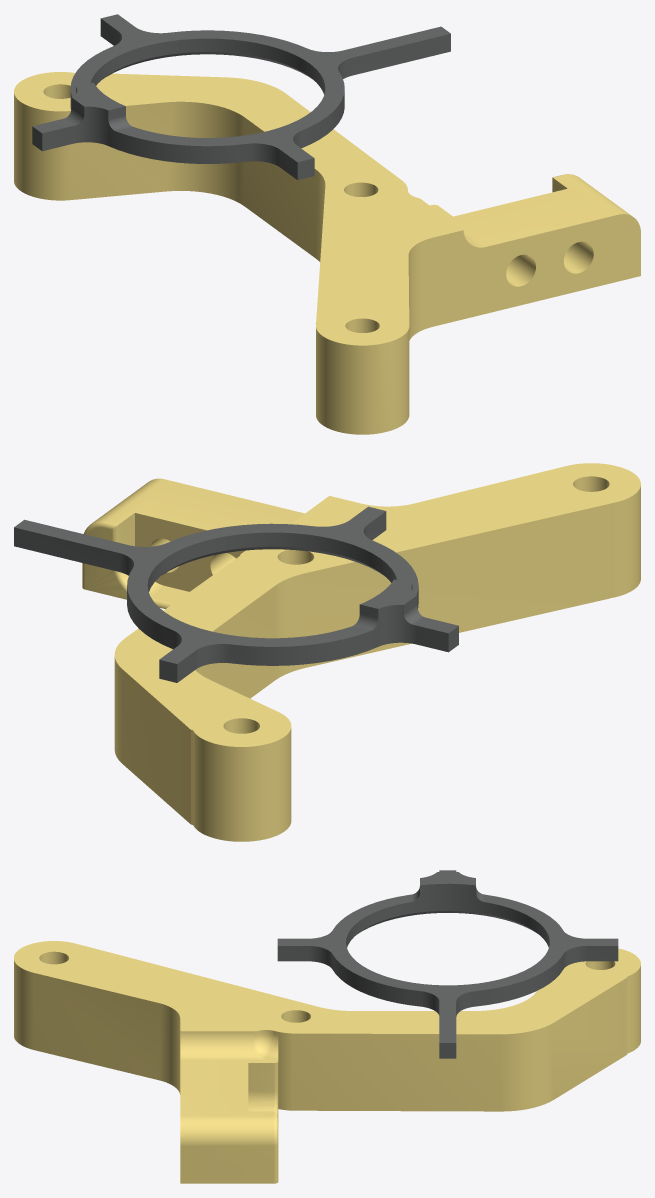
File: r01-polygon.glb
3 views of the same model, one above another, from view 1: azimuth 30°, elevation 25°; view 2: azimuth 150°, elevation 25°; view 3: azimuth 270°, elevation 25° (orthographic). The views are drawn at different scales.
Parts seen in each view (by area): view 1: r01-polygon; view 2: r01-polygon; view 3: r01-polygon.
Boxes of the visible parts, <box> form: r01-polygon: <box>14,14,640,434</box>; r01-polygon: <box>14,463,640,841</box>; r01-polygon: <box>14,870,640,1183</box>.
Size of the model in its own units: 0.0527 by 0.018 by 0.0736.
